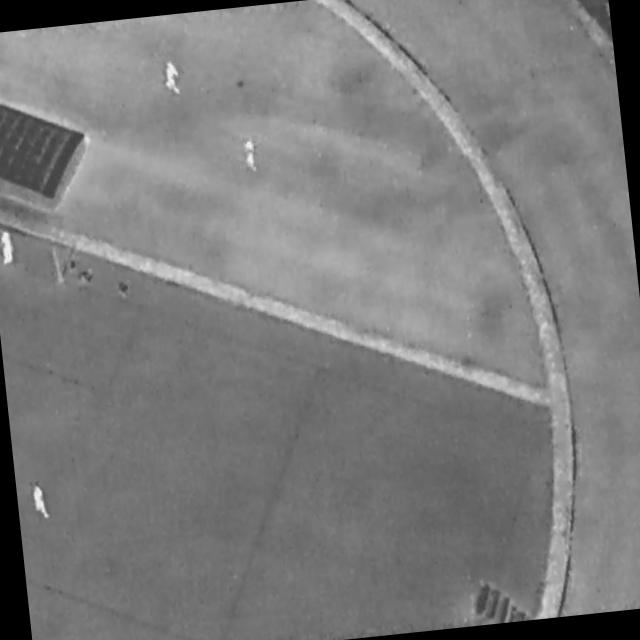person: (160, 57, 185, 99), (30, 481, 51, 523), (240, 136, 259, 173), (1, 226, 17, 265)
